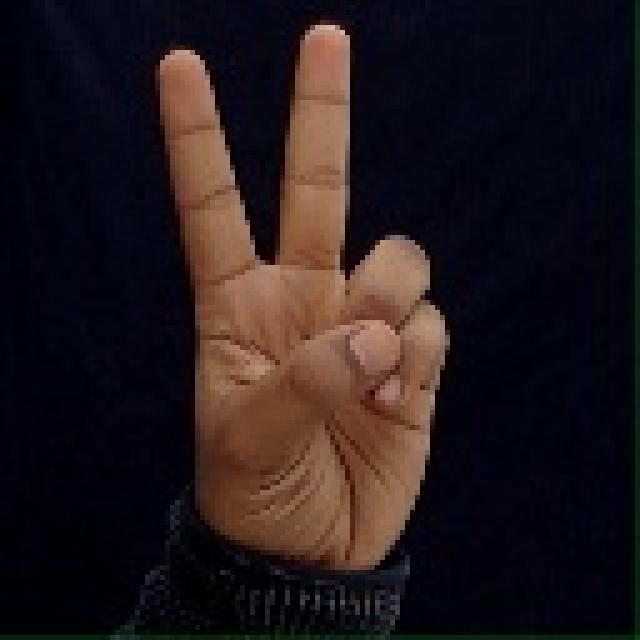Numeric-2: (147, 19, 448, 602)
